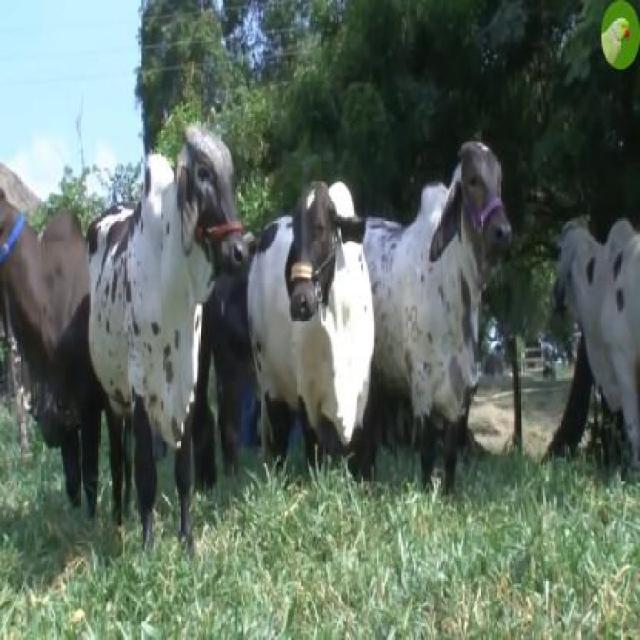Cow: (88, 116, 246, 550), (366, 139, 511, 486), (248, 180, 377, 500)
